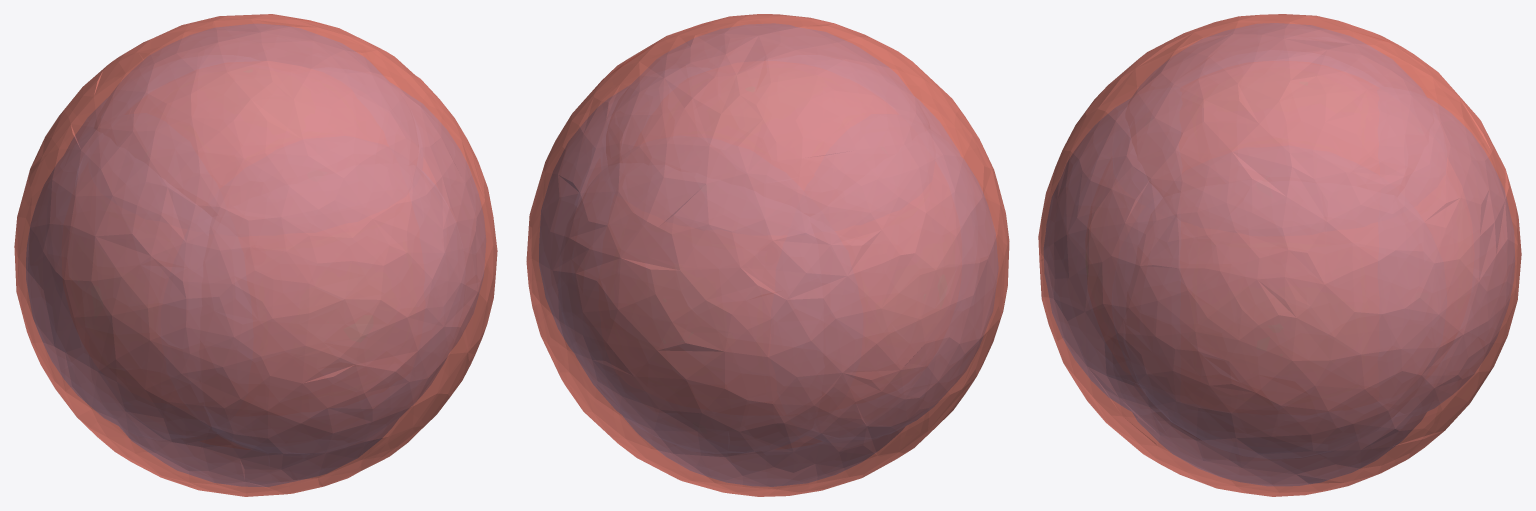
File: orbital.glb
3 views of the same model, side by side, from view 1: azimuth 30°, elevation 25°; view 2: azimuth 150°, elevation 25°; view 3: azimuth 270°, elevation 25° (orthographic).
Parts seen in each view (by area): view 1: Xe_n5_s_ml0_node, Xe_n5_p_ml0_node, Xe_n5_p_ml1_node, Xe_n5_p_ml-1_node; view 2: Xe_n5_s_ml0_node, Xe_n5_p_ml0_node, Xe_n5_p_ml1_node, Xe_n5_p_ml-1_node; view 3: Xe_n5_s_ml0_node, Xe_n5_p_ml1_node, Xe_n5_p_ml-1_node, Xe_n5_p_ml0_node.
Part boxes in pixels (bbox=[...]): Xe_n5_s_ml0_node: bbox=[14, 14, 497, 496]; Xe_n5_p_ml0_node: bbox=[66, 97, 465, 453]; Xe_n5_p_ml1_node: bbox=[26, 84, 485, 440]; Xe_n5_p_ml-1_node: bbox=[94, 24, 418, 486]; Xe_n5_s_ml0_node: bbox=[526, 14, 1009, 496]; Xe_n5_p_ml0_node: bbox=[558, 98, 959, 453]; Xe_n5_p_ml1_node: bbox=[539, 85, 998, 439]; Xe_n5_p_ml-1_node: bbox=[606, 23, 929, 486]; Xe_n5_s_ml0_node: bbox=[1038, 14, 1521, 496]; Xe_n5_p_ml1_node: bbox=[1126, 180, 1432, 458]; Xe_n5_p_ml-1_node: bbox=[1125, 23, 1433, 485]; Xe_n5_p_ml0_node: bbox=[1044, 98, 1514, 415].
Bounding box in the file's own units: 2.56 × 2.56 × 2.56.
